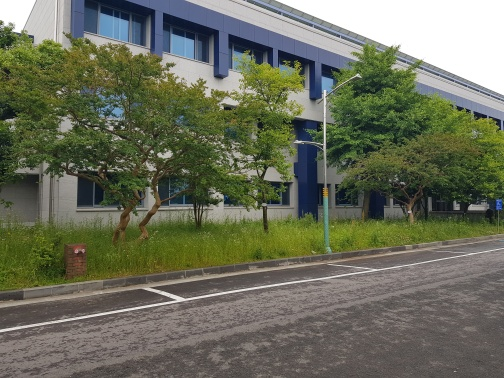College of Social Sciences: (18, 3, 500, 222)
